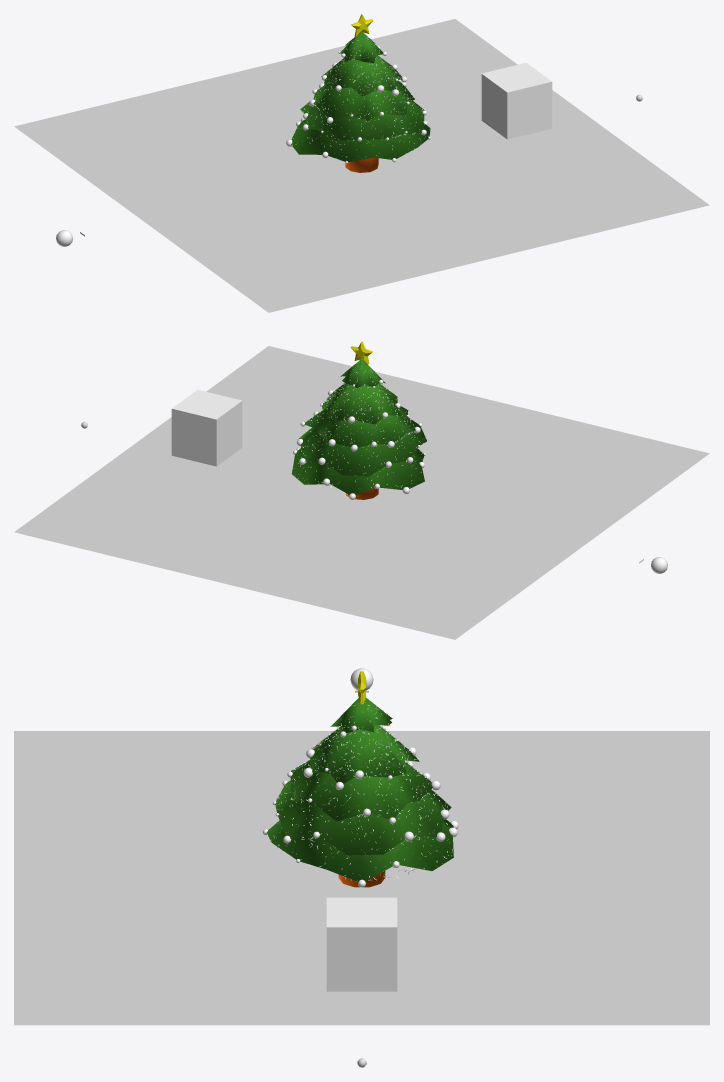
Rendered from bozic.glb.
3 views of the same model, one above another, from view 1: azimuth 30°, elevation 25°; view 2: azimuth 150°, elevation 25°; view 3: azimuth 270°, elevation 25° (orthographic). The views are drawn at different scales.
Visible parts, largest first — view 1: Plane, Cube, Cone.000, Cone.001, Cone.002, Cone.003, Cone.004; view 2: Plane, Cube, Cone.001, Cone.000, Cone.002, Cone.003, Cone.004; view 3: Plane, Cube, Cone.001, Cone.002, Cone.000, Cone.003, Cone.004.
Part boxes in pixels (bbox=[...]): Plane: bbox=[14, 19, 709, 312]; Cube: bbox=[481, 62, 552, 139]; Cone.000: bbox=[291, 119, 430, 161]; Cone.001: bbox=[300, 99, 424, 140]; Cone.002: bbox=[313, 80, 414, 120]; Cone.003: bbox=[321, 55, 402, 96]; Cone.004: bbox=[340, 32, 382, 62]; Plane: bbox=[14, 346, 709, 639]; Cube: bbox=[171, 389, 242, 466]; Cone.001: bbox=[297, 418, 426, 476]; Cone.000: bbox=[291, 448, 424, 494]; Cone.002: bbox=[304, 406, 415, 447]; Cone.003: bbox=[322, 383, 400, 424]; Cone.004: bbox=[340, 359, 385, 388]; Plane: bbox=[14, 731, 709, 1025]; Cube: bbox=[326, 897, 397, 991]; Cone.001: bbox=[275, 780, 451, 855]; Cone.002: bbox=[290, 760, 432, 821]; Cone.000: bbox=[266, 819, 453, 881]; Cone.003: bbox=[309, 725, 419, 783]; Cone.004: bbox=[330, 697, 392, 733].
Bounding box in the file's own units: 3.98 × 1.03 × 3.
